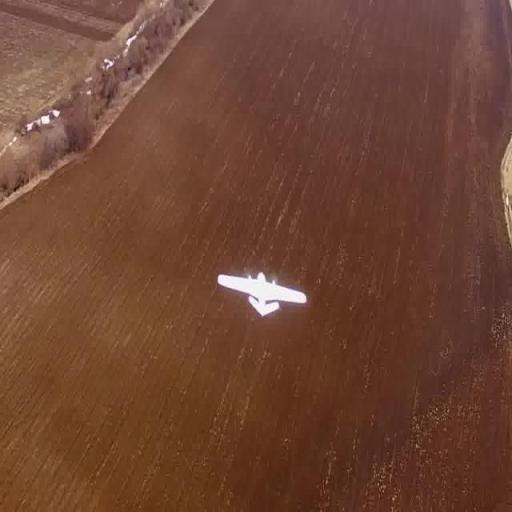uav: (216, 266, 315, 328)
